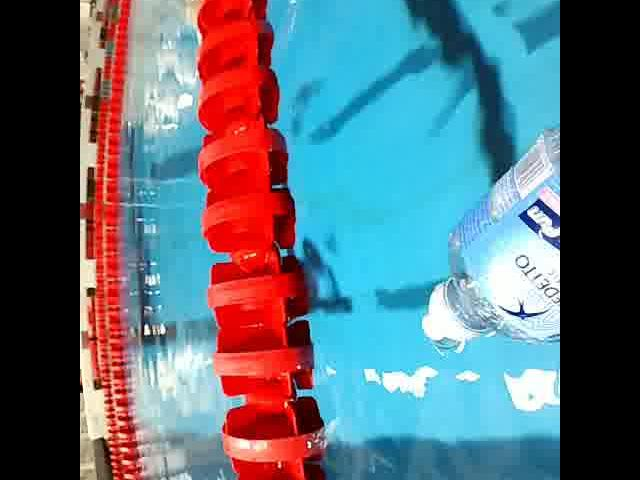Bottle: (420, 116, 560, 360)
